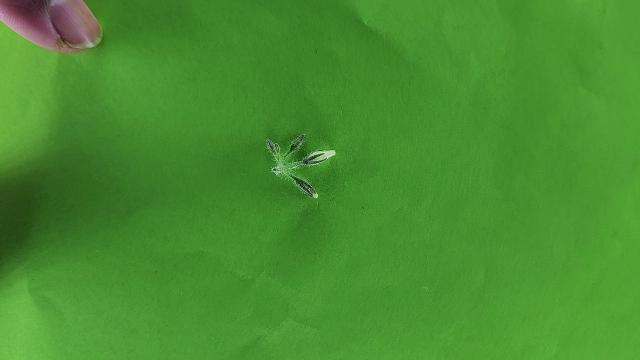Flower Bud: (300, 149, 336, 166), (292, 176, 317, 197), (288, 133, 306, 154), (266, 139, 274, 152)
